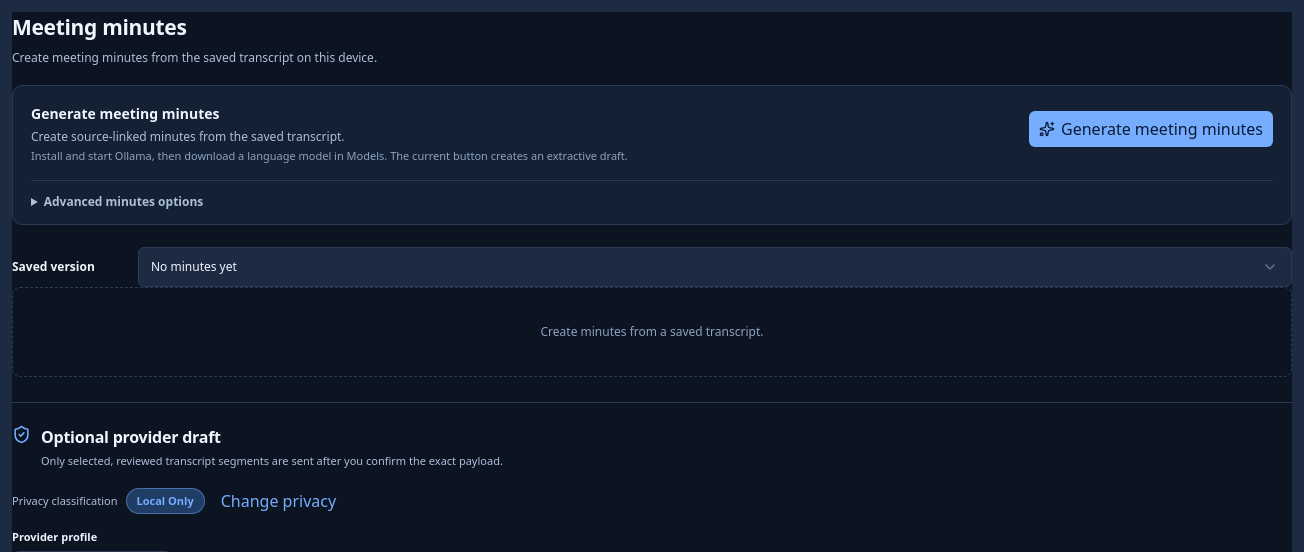
Test: reports a saved but unreadable draft after generation without creating another version
Click the button "Generate meeting minutes" at (1151, 129), box left=1029, top=111, right=1273, bottom=147
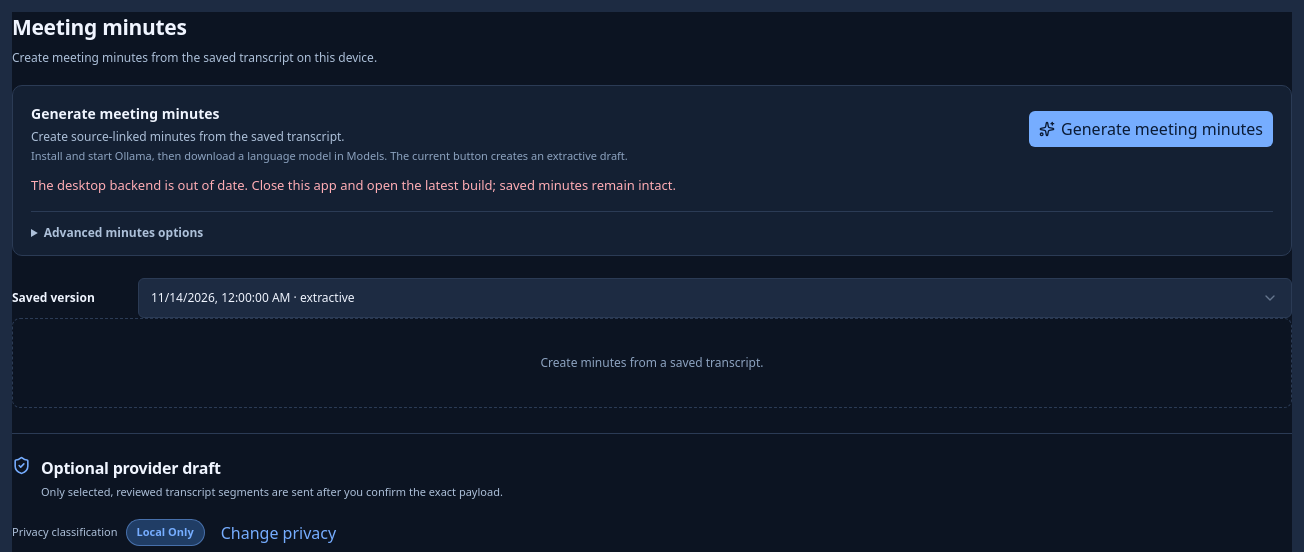
Expected: the element that starts with "Generate meeting minutes" is shown, left=12, top=85, right=1292, bottom=256
Expected: the 2nd message shows "desktop backend is out of date", left=31, top=176, right=676, bottom=194
